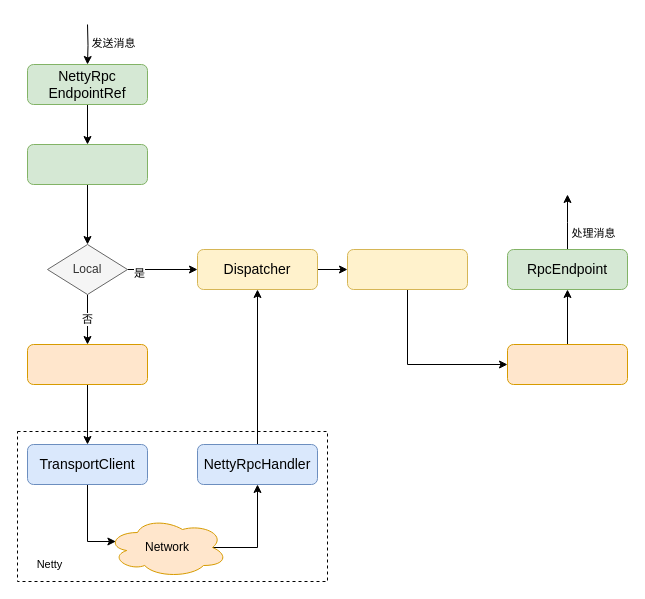
Image size: 645x599. Some labels were removed from this diagram. The centre of each missing label's shape, as x and y in pixels:
Inbox: the point at 567,364
NettyRpcEnv: the point at 87,164
Outbox: the point at 87,364
Shared MessageLoop: the point at 407,269
